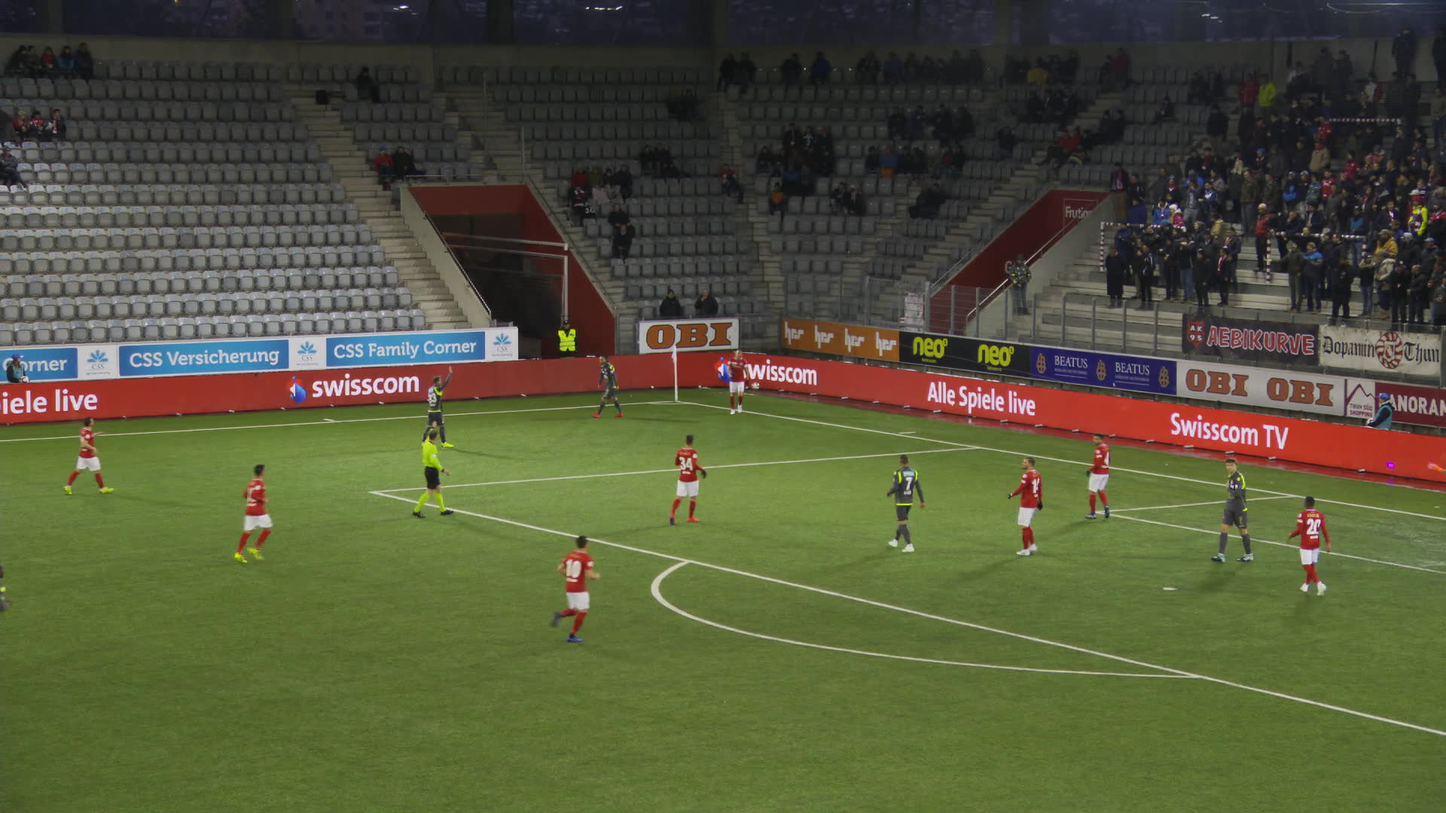ball: (751, 382, 758, 388)
player: (541, 528, 593, 644), (1210, 455, 1253, 563), (1289, 495, 1331, 594), (62, 416, 114, 495), (233, 464, 272, 565), (1008, 454, 1045, 556), (886, 453, 923, 553), (669, 434, 707, 525), (420, 364, 456, 447), (1082, 431, 1114, 520), (592, 352, 623, 418), (723, 349, 749, 415), (1426, 459, 1445, 475)
referee: (413, 416, 453, 518)
